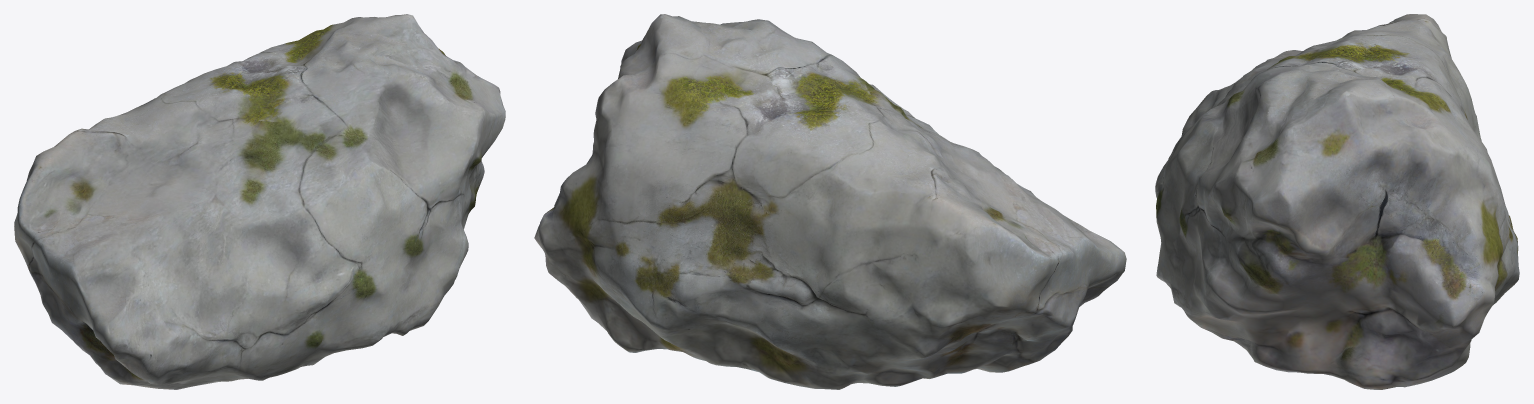
File: rock_0508164725.glb
3 renders of one model, left to right at view 1: azimuth 30°, elevation 25°; view 2: azimuth 150°, elevation 25°; view 3: azimuth 270°, elevation 25°, orthographic. The views are drawn at different scales.
Size of the model in its own units: 2 by 1.22 by 1.36.
1 material, 1 textured.
